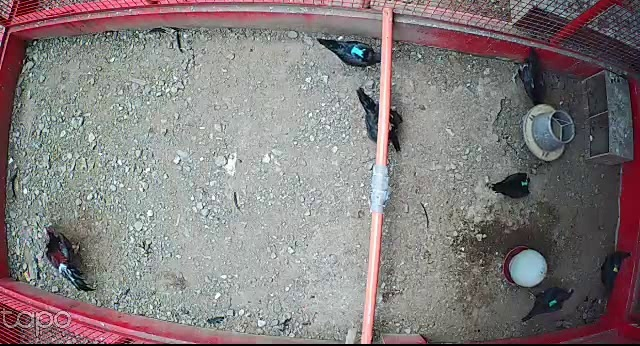Chicken: (351, 80, 404, 154), (311, 30, 389, 70), (512, 45, 548, 113), (519, 285, 579, 324), (491, 171, 533, 198)
Drinker: (502, 247, 548, 287)
Feeder: (523, 106, 574, 161)
Rooster: (38, 221, 97, 293)
Saddle_Color_Blue: (349, 43, 365, 59)
